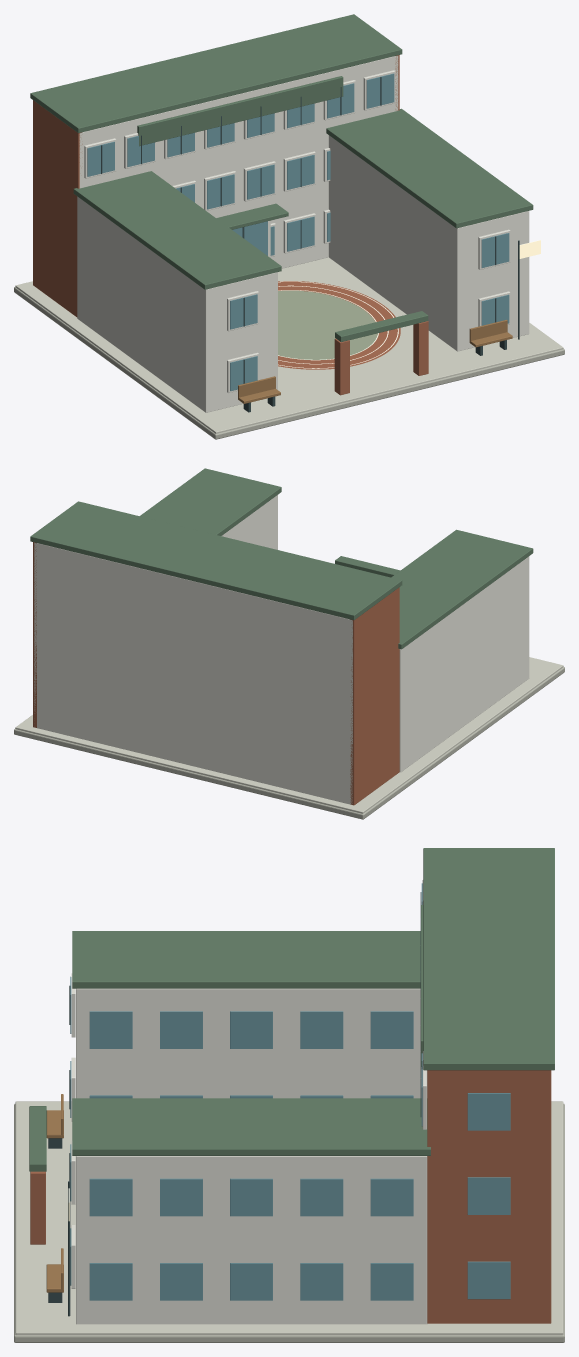
The model's file is high-school.glb.
3 views of the same model, one above another, from view 1: azimuth 30°, elevation 25°; view 2: azimuth 150°, elevation 25°; view 3: azimuth 270°, elevation 25° (orthographic). The views are drawn at different scales.
Visible parts, largest first — view 1: LeftTeachingWing, RightTeachingWing, RearTeachingWingRoof, RearTeachingWing, Paving, LeftTeachingWingRoof, RightTeachingWingRoof, BrickCornerPier, TrackInfield, SchoolSign, Lot, TrackOval (+17 smaller); view 2: RearTeachingWing, RearTeachingWingRoof, LeftTeachingWing, BrickCornerPier, LeftTeachingWingRoof, Paving, RightTeachingWingRoof, Lot, RightTeachingWing, BrickCornerPier.001, GateHeader; view 3: RightTeachingWing, LeftTeachingWing, RearTeachingWingRoof, BrickCornerPier.001, RightTeachingWingRoof, LeftTeachingWingRoof, Paving, Lot, CampusSideWindow, CampusSideWindow.018, CampusSideWindow.021, CampusSideWindow.022 (+16 smaller).
Part boxes in pixels (x1,y1,x2,y2): LeftTeachingWing: [77, 196, 277, 412]; RightTeachingWing: [328, 135, 529, 351]; RearTeachingWingRoof: [30, 14, 402, 133]; RearTeachingWing: [79, 56, 398, 268]; Paving: [15, 257, 563, 433]; LeftTeachingWingRoof: [73, 171, 281, 289]; RightTeachingWingRoof: [326, 108, 533, 228]; BrickCornerPier: [33, 100, 82, 317]; TrackInfield: [278, 290, 377, 359]; SchoolSign: [137, 76, 343, 146]; Lot: [14, 287, 564, 439]; TrackOval: [278, 281, 400, 369]; RearTeachingWing: [34, 542, 352, 804]; RearTeachingWingRoof: [30, 501, 402, 620]; LeftTeachingWing: [399, 556, 529, 772]; BrickCornerPier: [350, 587, 399, 805]; LeftTeachingWingRoof: [391, 529, 533, 649]; Paving: [15, 657, 563, 813]; RightTeachingWingRoof: [140, 468, 281, 535]; Lot: [14, 667, 564, 819]; RightTeachingWing: [221, 495, 277, 549]; BrickCornerPier.001: [33, 542, 36, 727]; GateHeader: [335, 556, 400, 577]; RightTeachingWing: [76, 1156, 427, 1324]; LeftTeachingWing: [76, 988, 427, 1098]; RearTeachingWingRoof: [423, 848, 554, 1070]; BrickCornerPier.001: [427, 1070, 551, 1323]; RightTeachingWingRoof: [72, 1098, 430, 1155]; LeftTeachingWingRoof: [72, 931, 420, 988]; Paving: [15, 1101, 563, 1335]; Lot: [14, 1103, 564, 1342]; CampusSideWindow: [467, 1261, 510, 1299]; CampusSideWindow.018: [89, 1178, 132, 1216]; CampusSideWindow.021: [300, 1178, 343, 1216]; CampusSideWindow.022: [370, 1178, 413, 1216].
Size of the model in its own units: 16 by 8.69 by 16.
